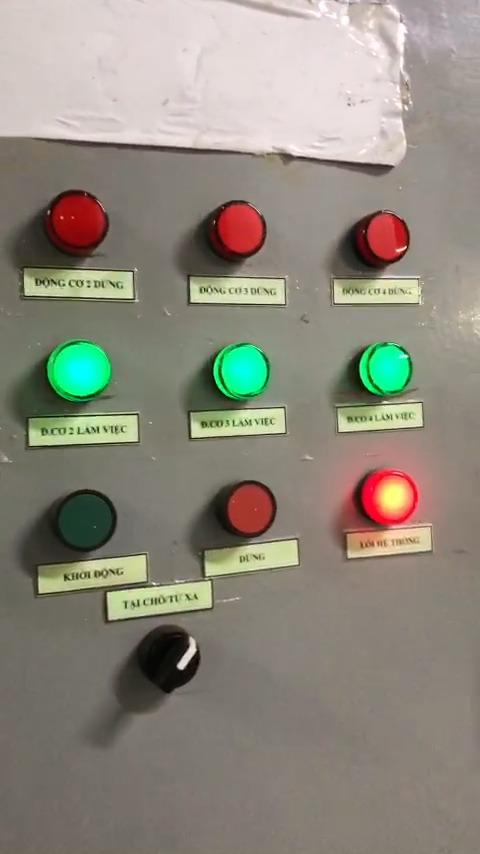led: (37, 188, 109, 254), (52, 485, 119, 552), (46, 336, 111, 404), (358, 464, 421, 531), (208, 336, 271, 401), (209, 198, 271, 264), (221, 478, 283, 538), (354, 208, 413, 270), (358, 336, 410, 398)
twist: (133, 624, 203, 691)
